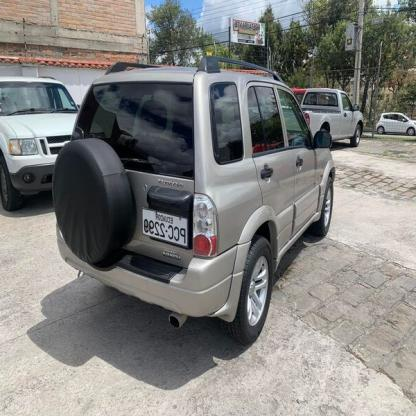Placa: (139, 203, 194, 256)
